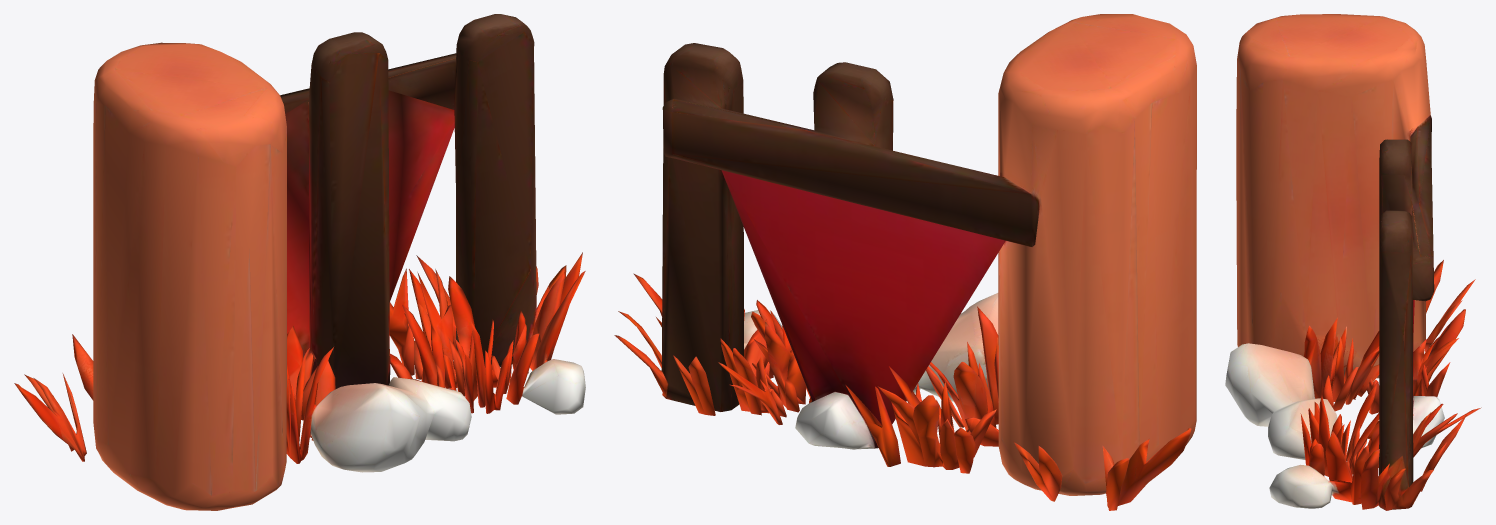
Rendered from clay-fence-post.glb.
3 renders of one model, left to right at view 1: azimuth 30°, elevation 25°; view 2: azimuth 150°, elevation 25°; view 3: azimuth 270°, elevation 25°, orthographic. The views are drawn at different scales.
Bounding box in the file's own units: 1.91 × 1.28 × 0.9264.
1 material, 1 textured.
